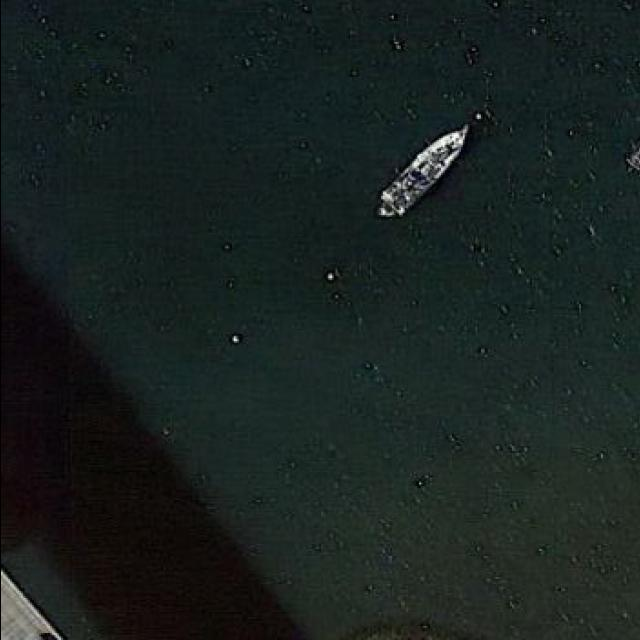ship: (371, 125, 469, 216)
